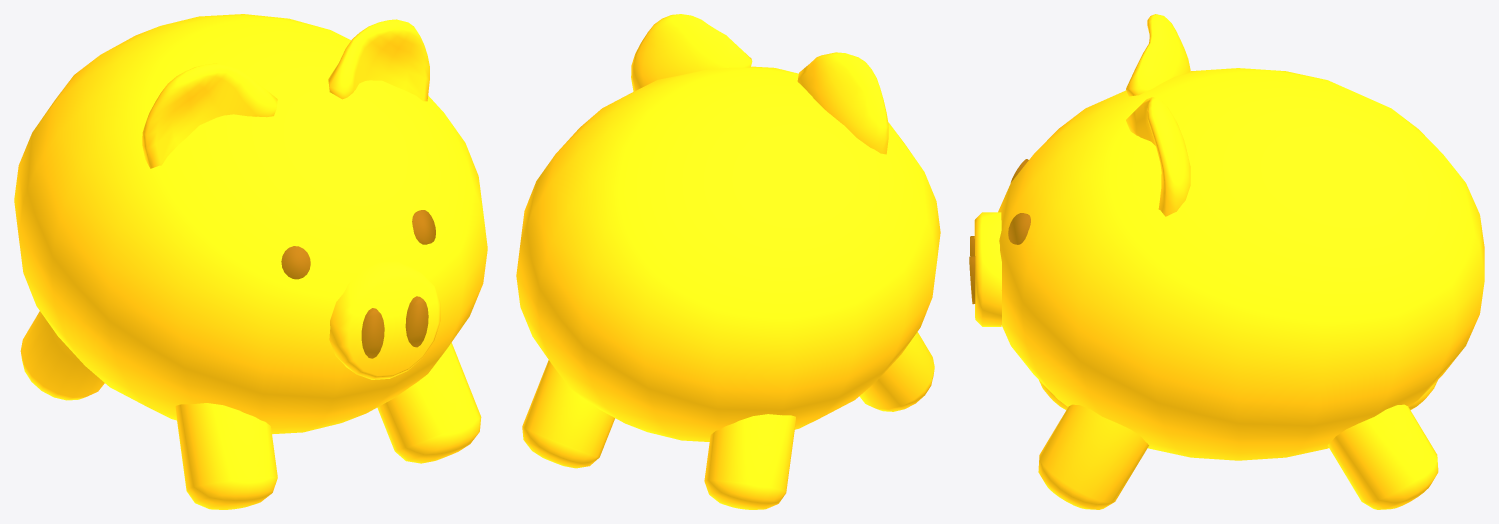
Rendered from gold_piggy.glb.
The picture shows the model from 3 angles, left to right: view 1: azimuth 30°, elevation 25°; view 2: azimuth 150°, elevation 25°; view 3: azimuth 270°, elevation 25°; orthographic projection. The views are drawn at different scales.
Visible parts, largest first — view 1: Gold_Piggy; view 2: Gold_Piggy; view 3: Gold_Piggy.
Boxes of the visible parts, bbox=[...] form: Gold_Piggy: bbox=[14, 14, 487, 509]; Gold_Piggy: bbox=[516, 14, 940, 509]; Gold_Piggy: bbox=[969, 14, 1484, 509].
Size of the model in its own units: 0.7126 by 0.7071 by 0.8325.
Materials: 1 (1 with a texture image).
